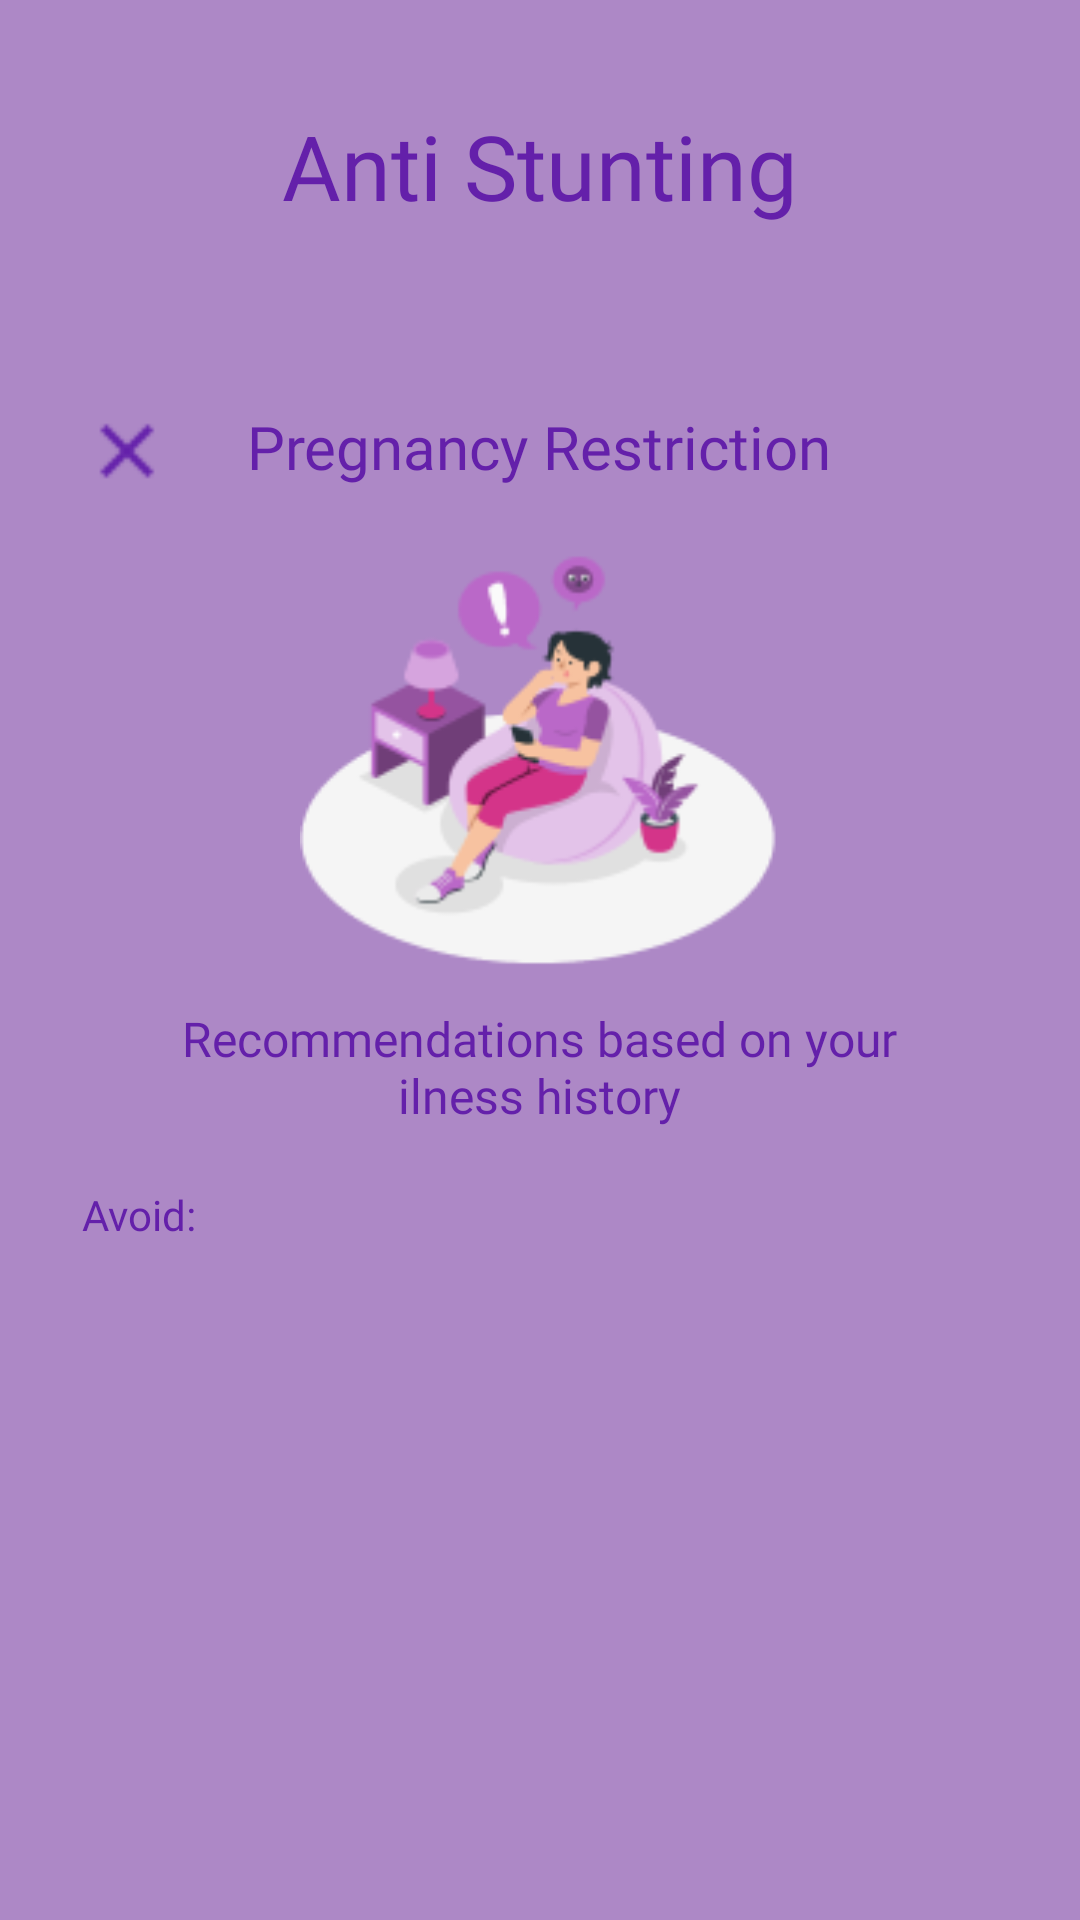

Where icons sit on this 1080×1920 app screen, as Rect(x1, y1, x2, y2):
close: Rect(100, 424, 154, 478)
